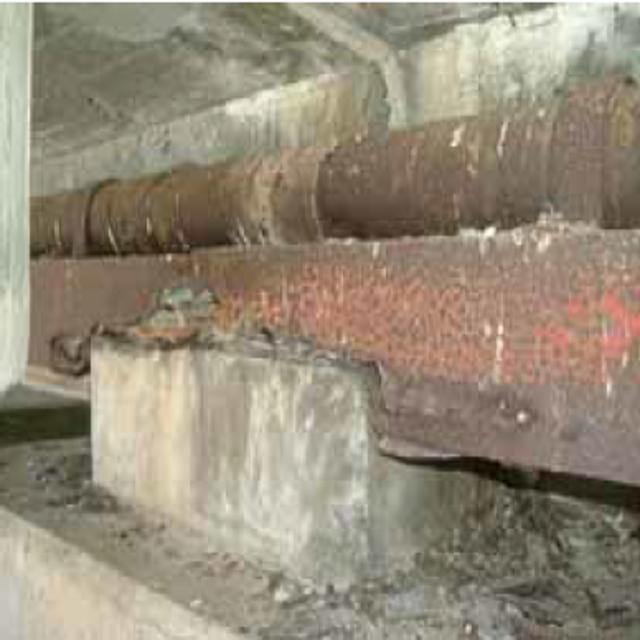corrosion: (31, 73, 640, 493)
